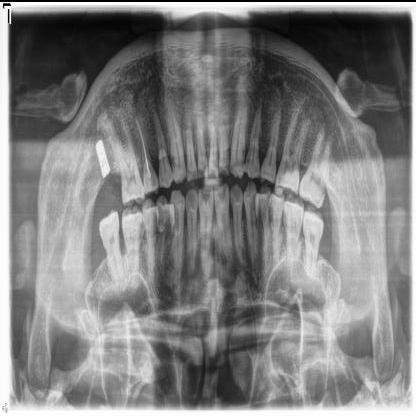ITI: (92, 132, 114, 187)
